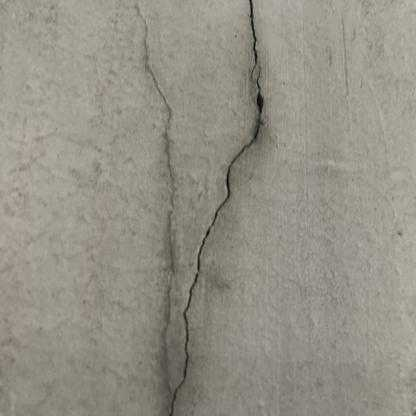crack: (170, 1, 264, 414)
